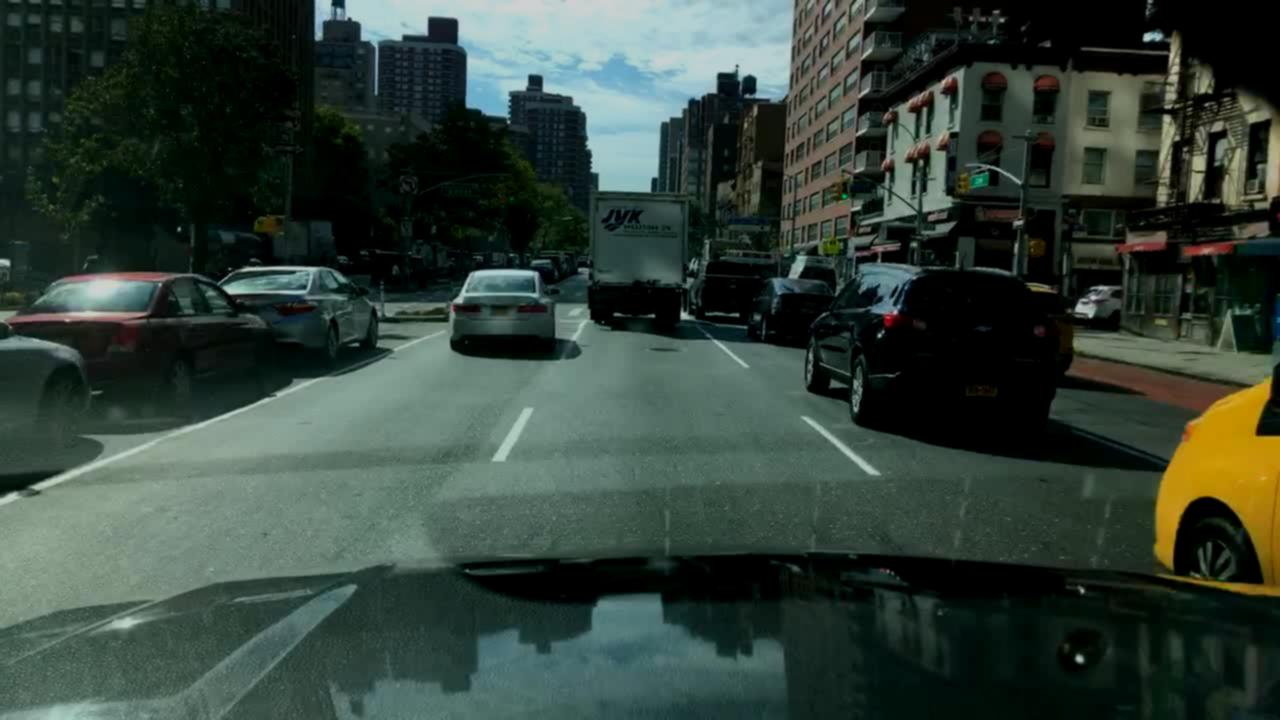chevrolet: (969, 317, 1000, 336)
